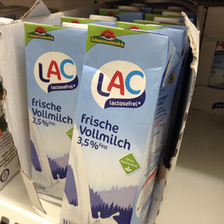milk: (65, 22, 183, 223), (24, 17, 82, 206)
